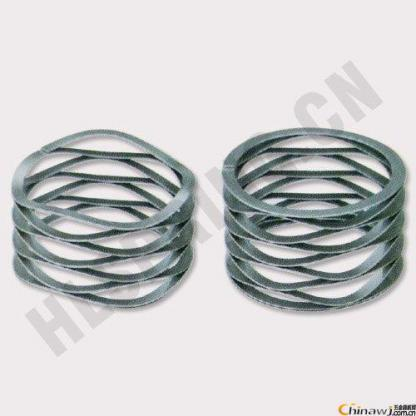FOD: (219, 123, 411, 315), (7, 127, 203, 308)
